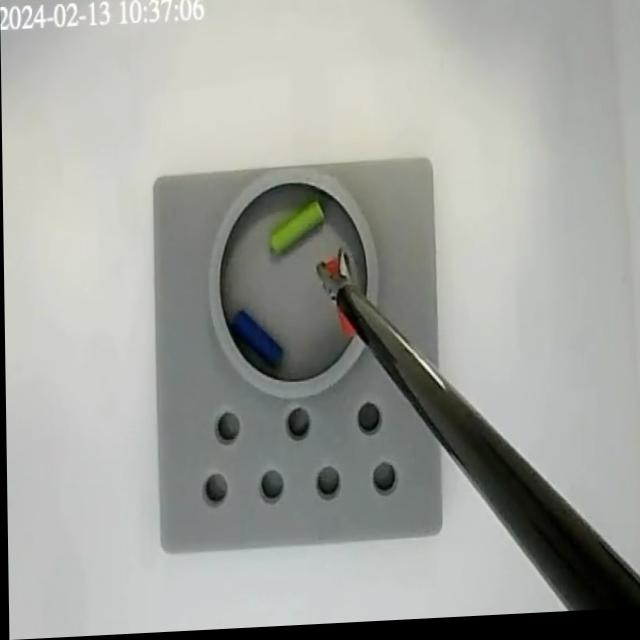EmptyHole: (367, 461, 398, 502), (256, 468, 285, 506), (313, 466, 341, 505), (284, 406, 311, 445), (354, 402, 381, 440), (201, 471, 228, 509), (214, 411, 240, 447)
